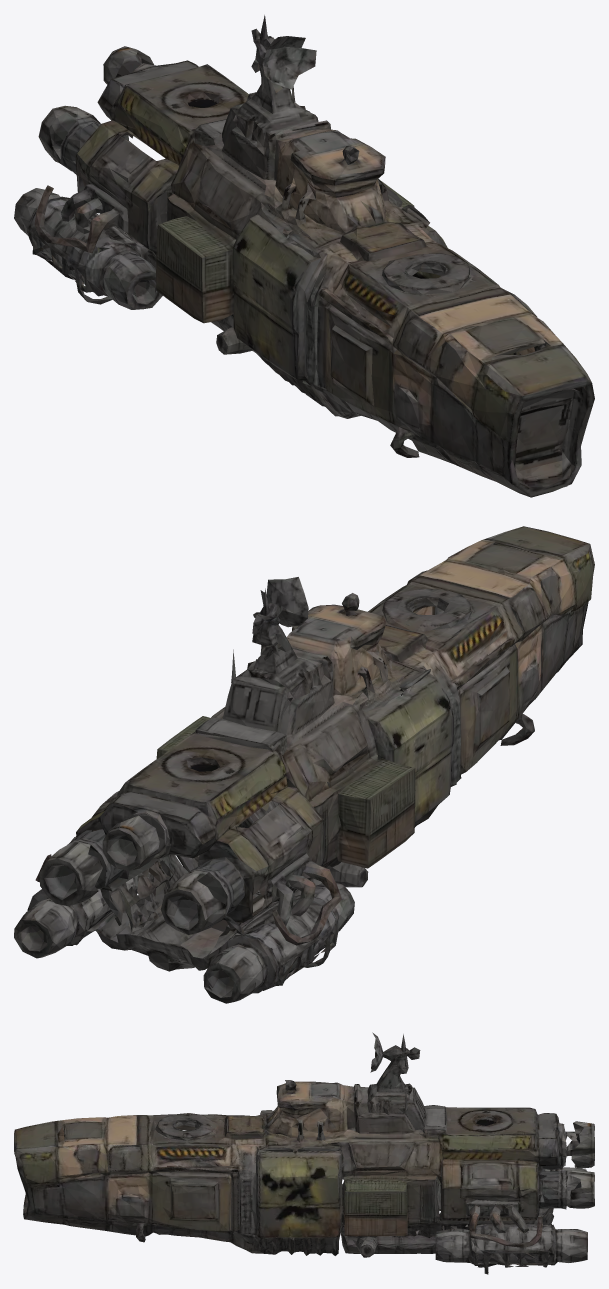
Rendered from 03_巡洋艦.glb.
3 renders of one model, top to bottom at view 1: azimuth 30°, elevation 25°; view 2: azimuth 150°, elevation 25°; view 3: azimuth 270°, elevation 25°, orthographic. The views are drawn at different scales.
Visible parts, largest first — view 1: part_1; view 2: part_1; view 3: part_1.
Boxes of the visible parts, x1,y1,x2,y2 form: part_1: [14, 15, 594, 497]; part_1: [14, 526, 594, 1003]; part_1: [14, 1032, 594, 1274].
Bounding box in the file's own units: 0.359 × 0.4081 × 1.
Materials: 1 (1 with a texture image).
